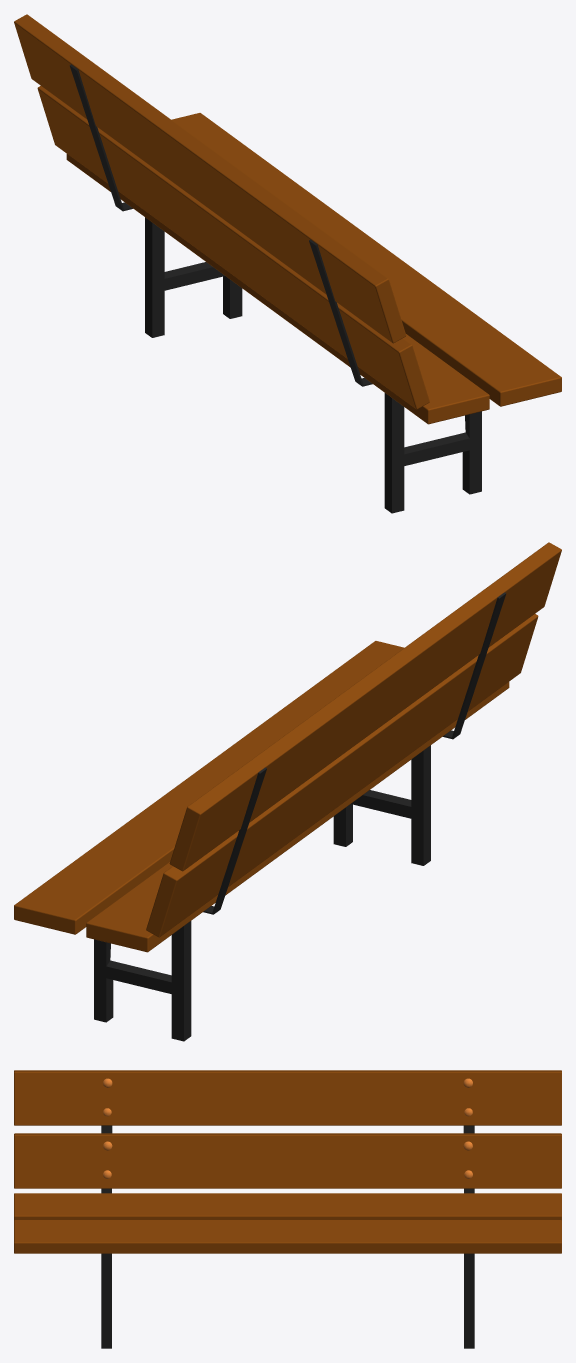
File: lawunia.fbx
3 views of the same model, one above another, from view 1: azimuth 30°, elevation 25°; view 2: azimuth 150°, elevation 25°; view 3: azimuth 270°, elevation 25° (orthographic). The views are drawn at different scales.
Visible parts, largest first — view 1: Cube, Cube.001; view 2: Cube, Cube.001; view 3: Cube, Cube.001, Sphere.
Boxes of the visible parts, bbox=[...] form: Cube: bbox=[14, 14, 561, 424]; Cube.001: bbox=[69, 64, 481, 513]; Cube: bbox=[14, 542, 561, 952]; Cube.001: bbox=[94, 592, 506, 1041]; Cube: bbox=[14, 1070, 561, 1253]; Cube.001: bbox=[101, 1125, 474, 1348]; Sphere: bbox=[103, 1078, 472, 1178].
Size of the model in its own units: 78.23 by 116 by 260.
